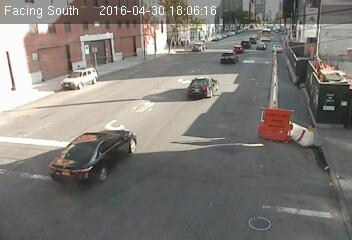neg: (24, 120, 59, 167), (98, 106, 126, 144), (144, 175, 170, 210), (242, 190, 268, 224), (183, 119, 206, 149), (10, 34, 33, 63), (216, 68, 236, 96), (261, 127, 281, 153), (70, 56, 90, 82), (189, 70, 209, 95), (274, 80, 293, 106), (75, 165, 94, 190), (153, 47, 167, 66), (223, 29, 236, 47)
